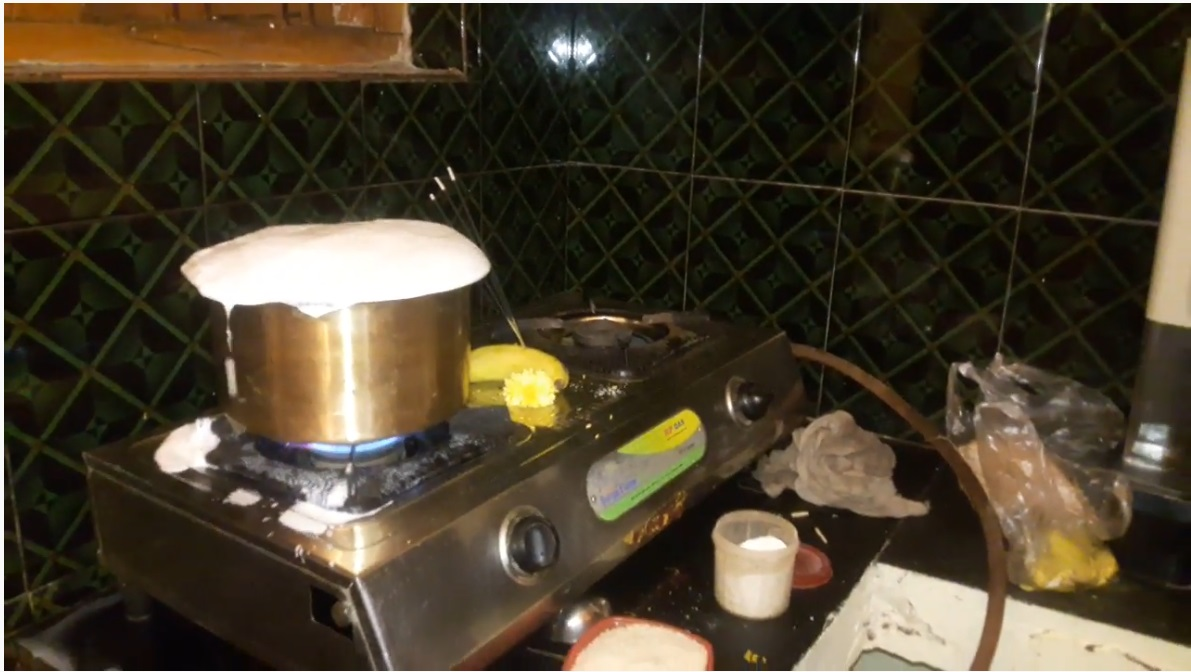Boiled: (169, 213, 501, 485)
